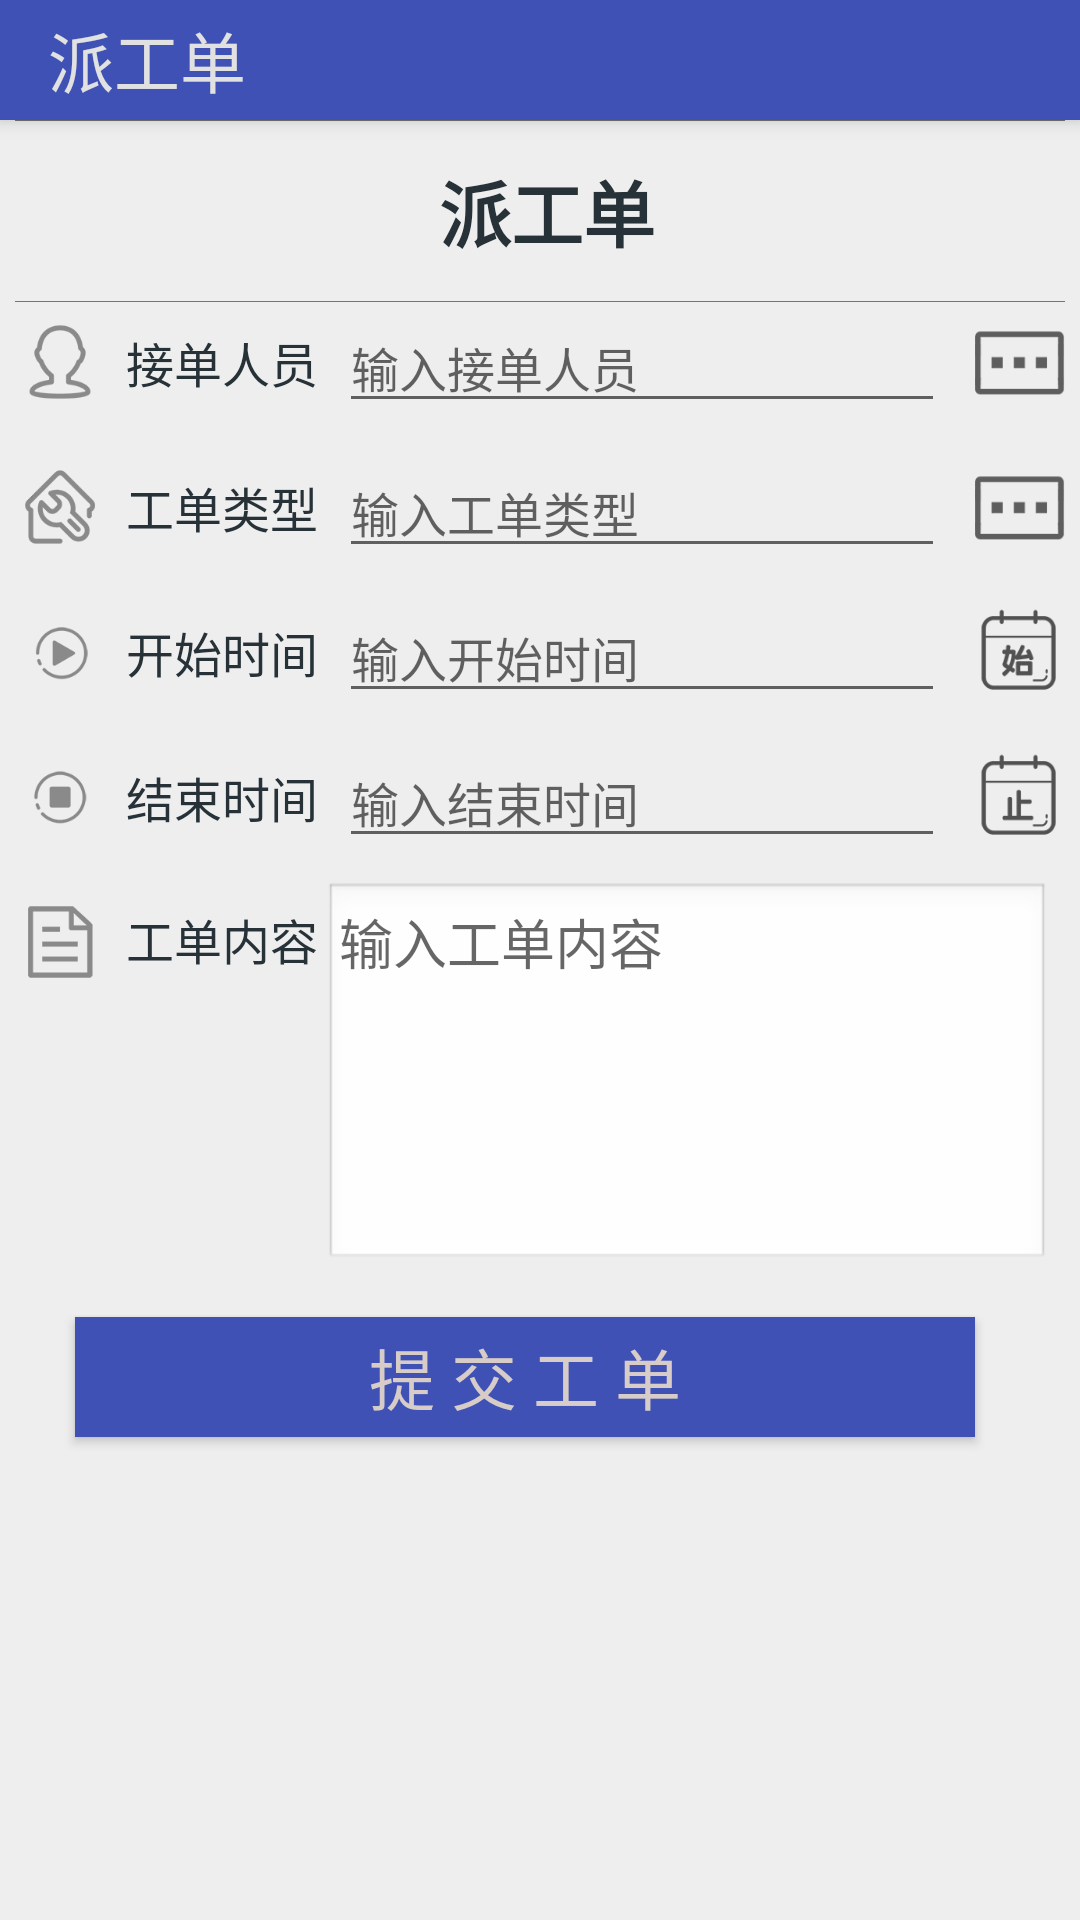

Named icons in this screenshot (1080 × 1920) and their centers, [x,y]:
workorder content: [60,942]
workorder endtime: [60,797]
workorder head portrait: [60,362]
workorder quick select: [1019,363], [1019,508]
workorder quickselect endtime: [1018,794]
workorder quickselect starttime: [1018,649]
workorder starttime: [62,653]
workorder type: [60,507]
